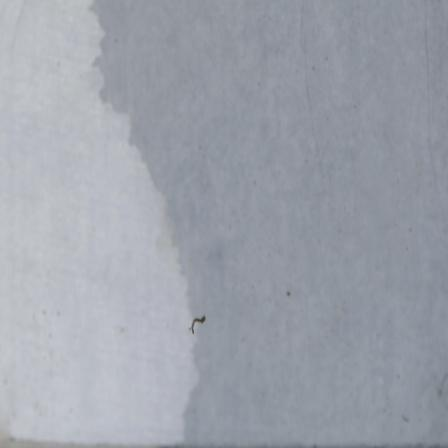Jentik-Nyamuk: (186, 310, 209, 339)
